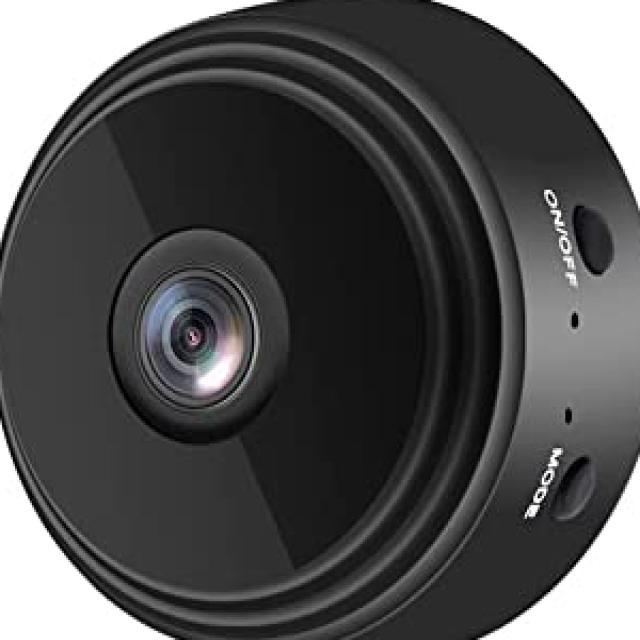hidden camera: (0, 60, 531, 611)
